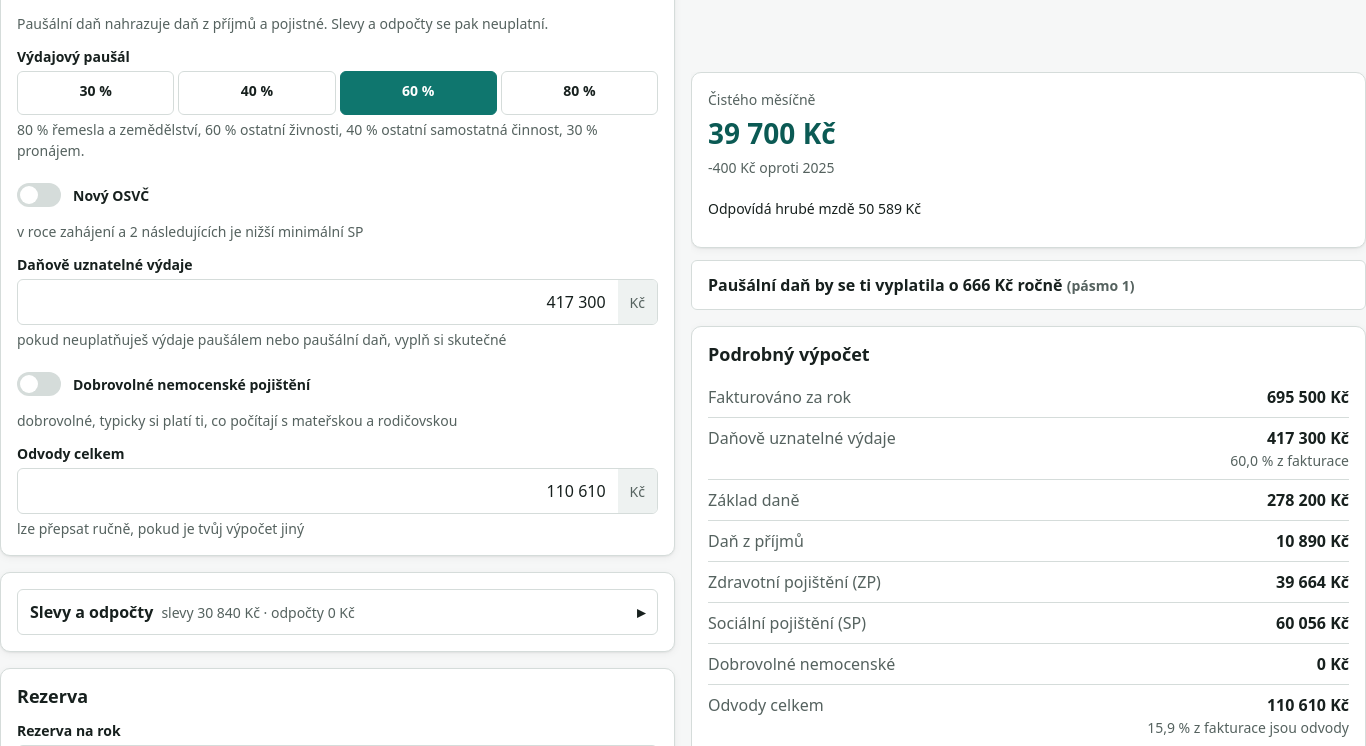
Test: CalcScreen with the 2026 defaults › shows the minimum voluntary sickness premium when the insurance is switched on
The width and height of the screenshot is (1366, 746).
(page scrolled)
What coordinates should you click on to do the following:
click the switch labelled "Dobrovolné nemocenské pojištění"
I would click on:
 (39, 384)
Its box is left=17, top=372, right=61, bottom=396.
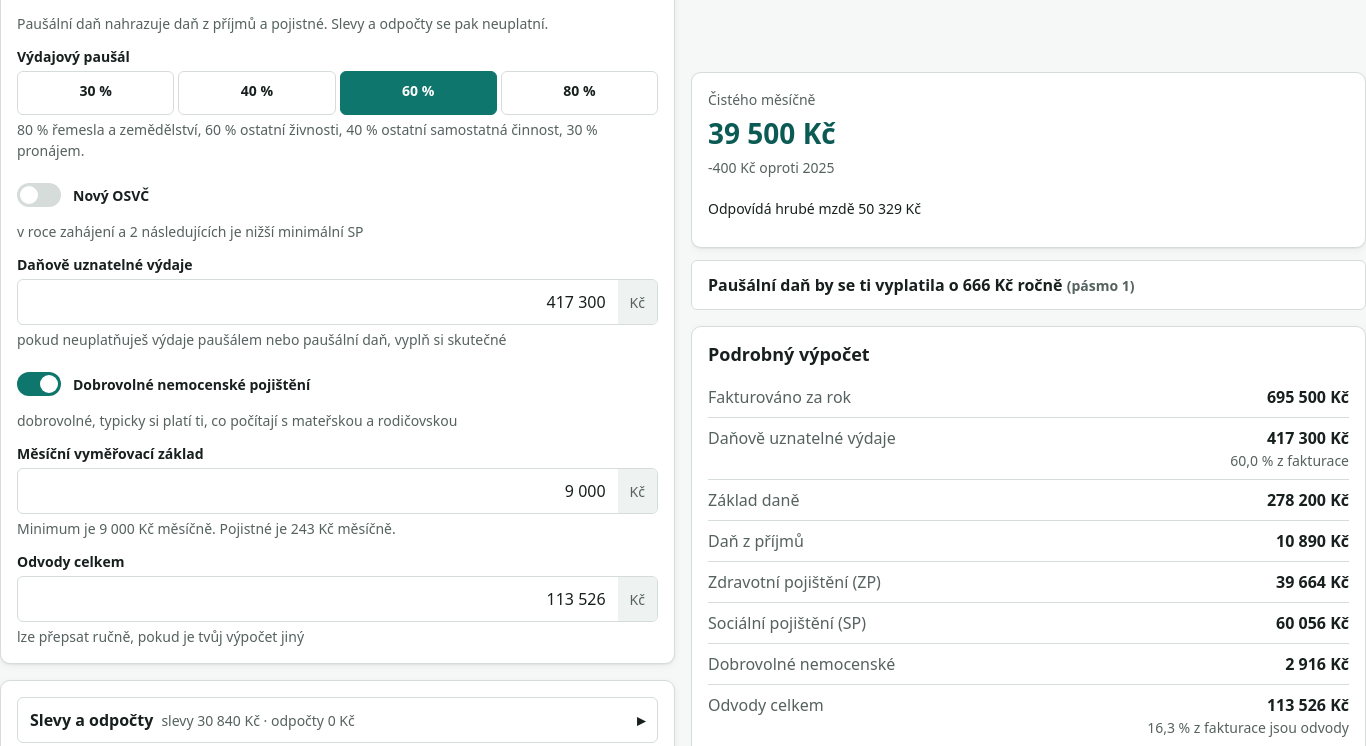
Now the element showing "Dobrovolné nemocenské 2 916 Kč" is shown, box left=708, top=644, right=1349, bottom=685
